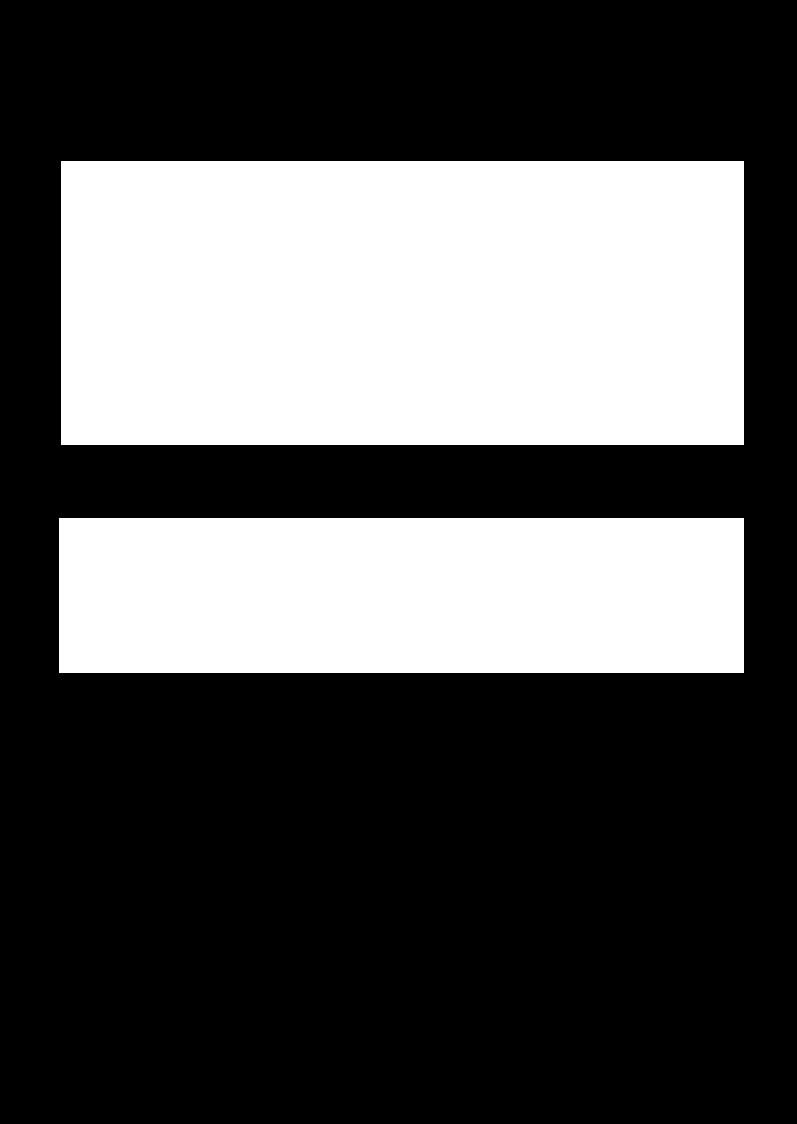table: (61, 161, 743, 444), (59, 518, 743, 672)
